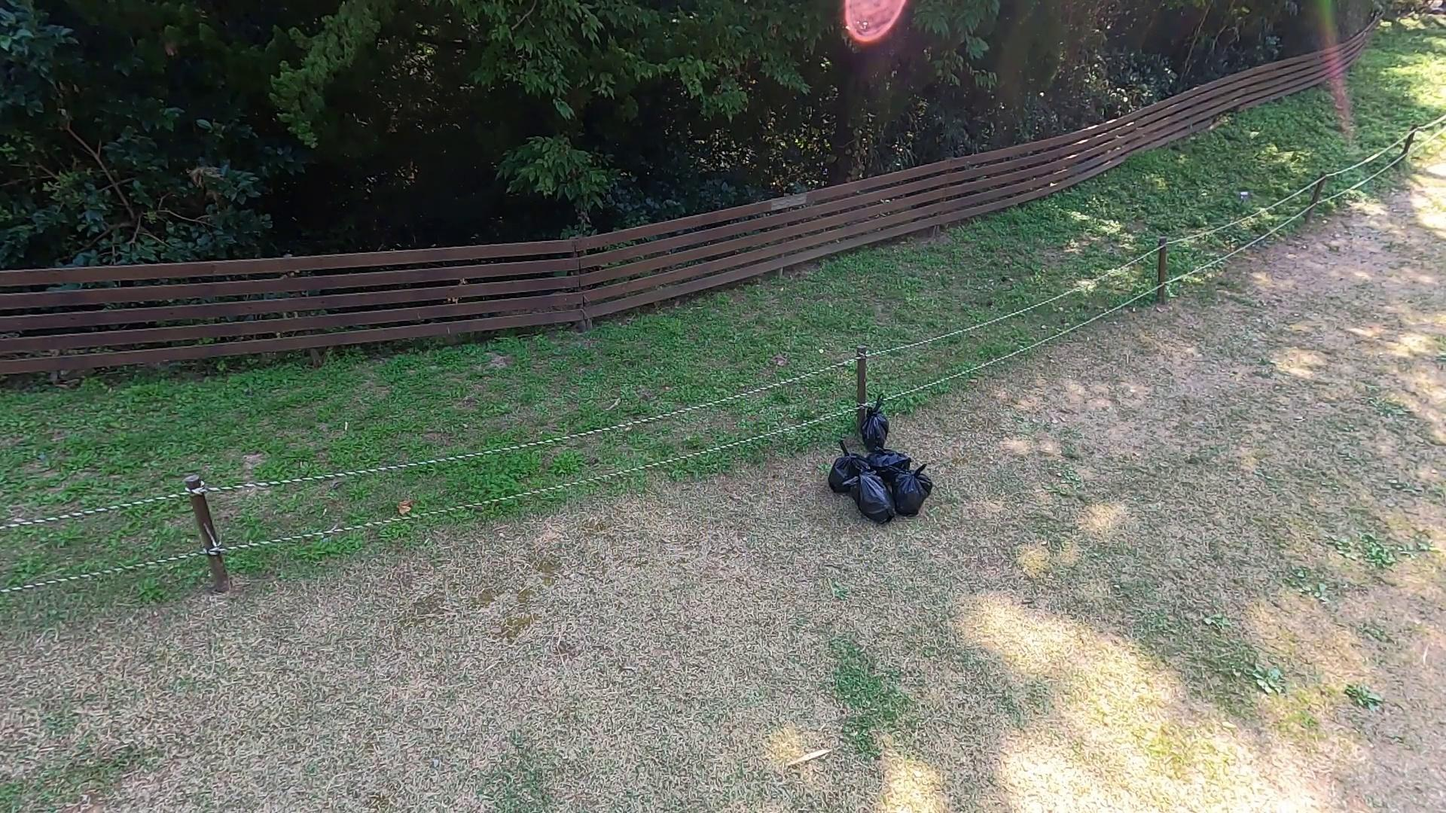trash: (881, 459, 936, 521), (851, 469, 898, 527), (828, 440, 874, 498), (853, 390, 894, 450), (866, 437, 911, 490)
